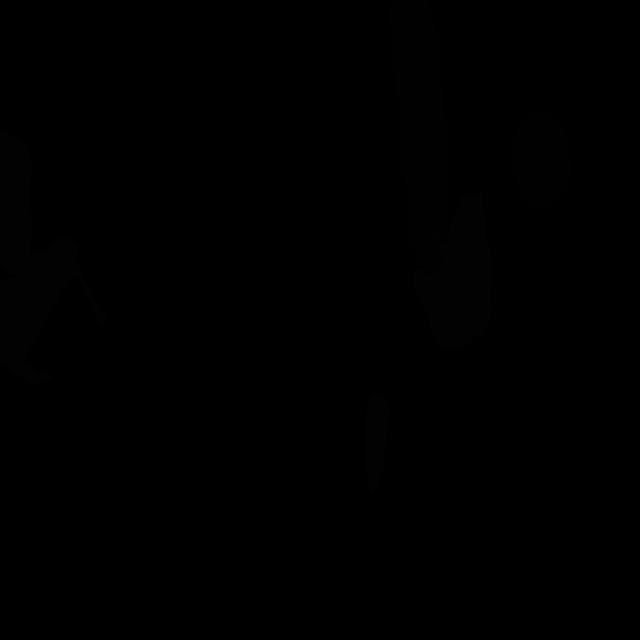cardboard: (0, 236, 108, 386), (413, 191, 494, 349), (0, 125, 33, 276), (366, 394, 390, 494)
rigid_plastic: (388, 0, 449, 274), (512, 109, 571, 211)
